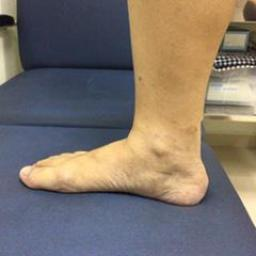Medial View -Right Foot-: (13, 92, 211, 218)
